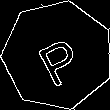P_NW: (29, 24, 86, 86)
